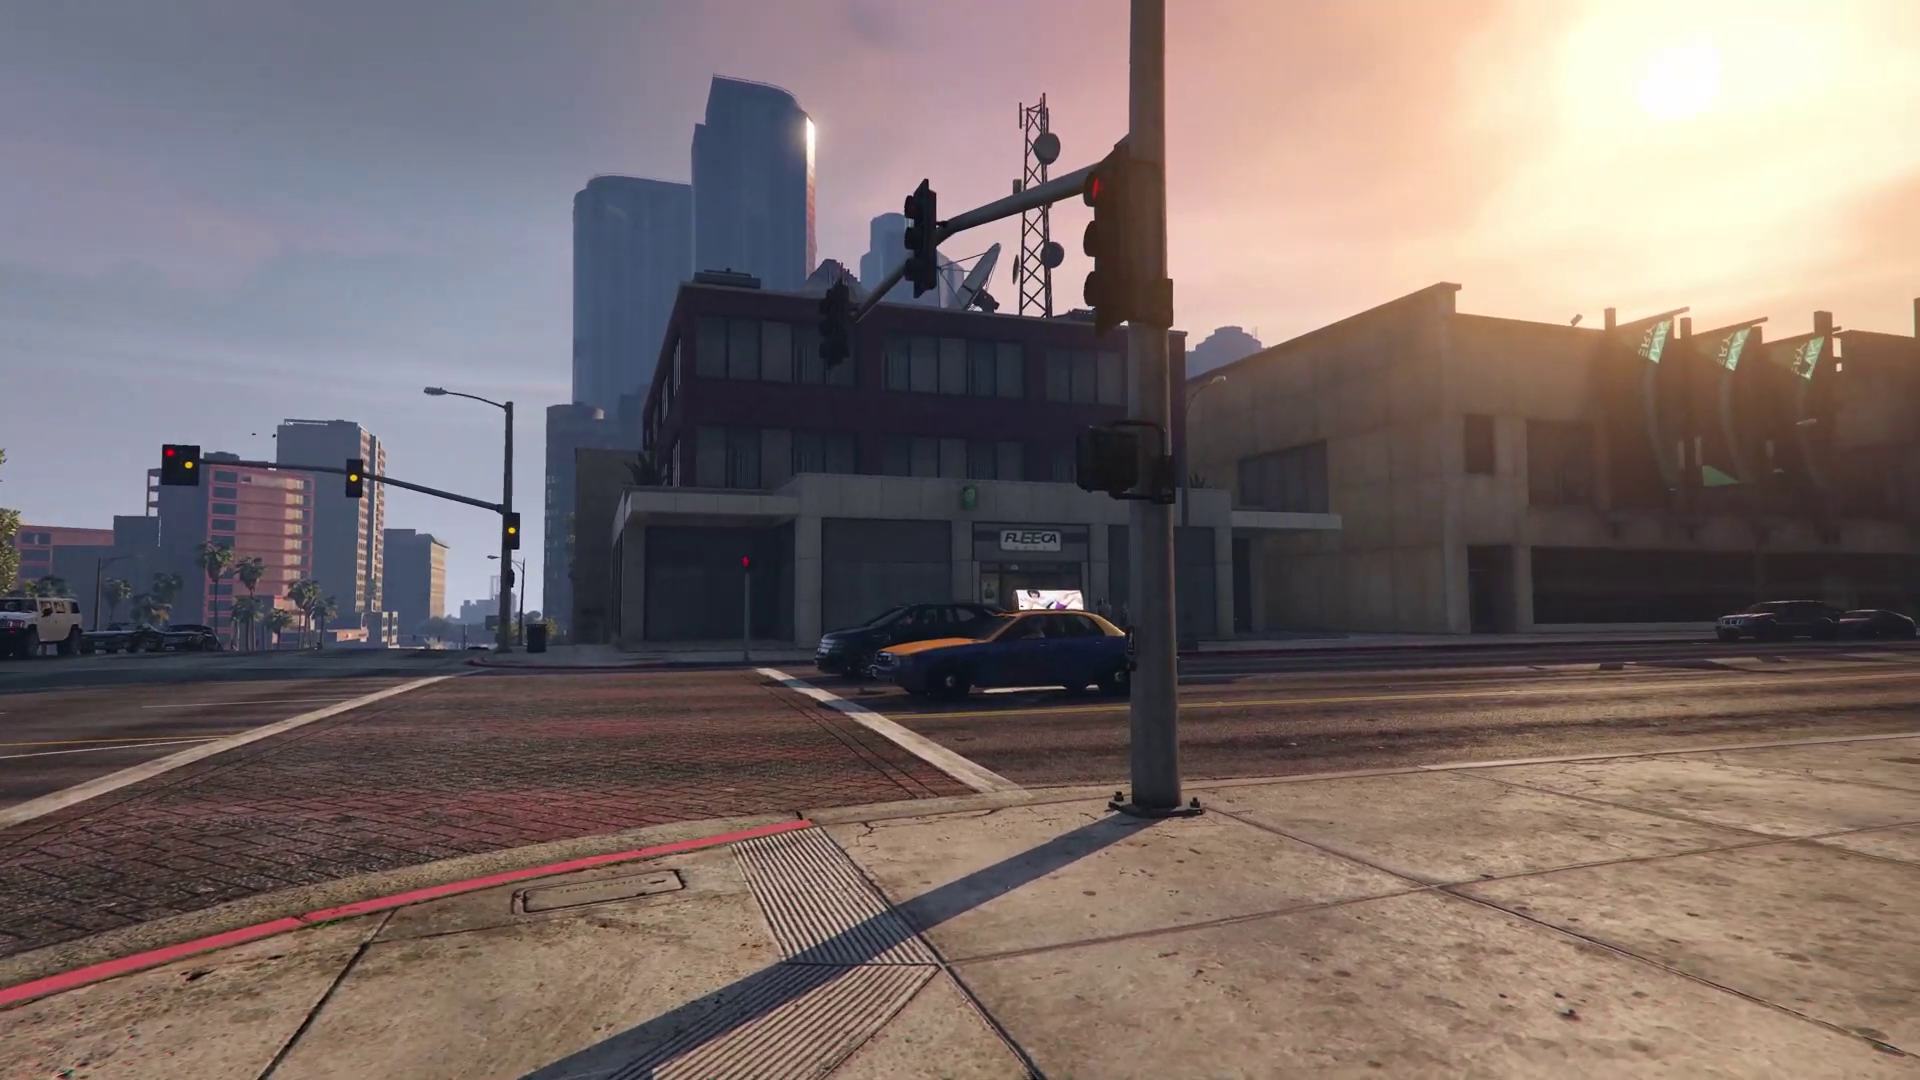car: (866, 611, 1131, 695), (819, 604, 992, 673), (1717, 600, 1838, 641), (1, 597, 84, 657), (1836, 609, 1911, 644), (84, 622, 164, 654), (164, 625, 218, 655)
traffic light: (1087, 146, 1139, 323), (1077, 423, 1141, 498), (903, 178, 938, 301), (819, 278, 853, 372), (162, 444, 196, 487), (345, 459, 360, 497), (506, 512, 521, 550), (740, 554, 756, 571)
